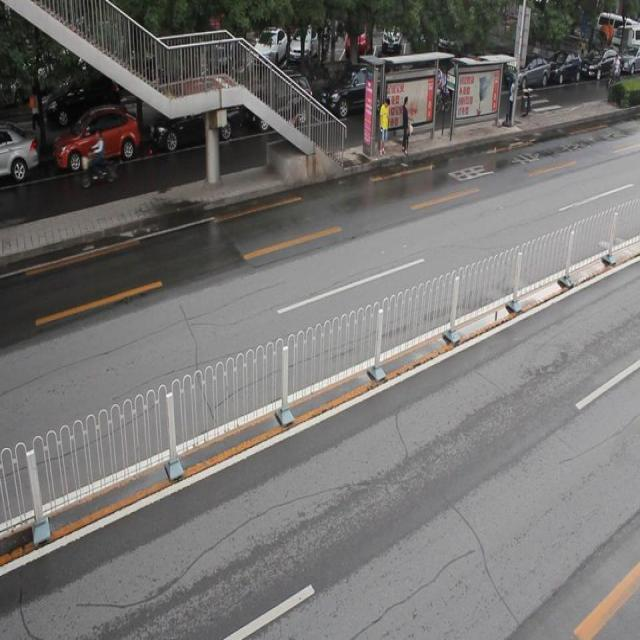car: (150, 94, 242, 150), (55, 110, 140, 166), (248, 74, 314, 133), (318, 66, 389, 120), (1, 125, 39, 182)
